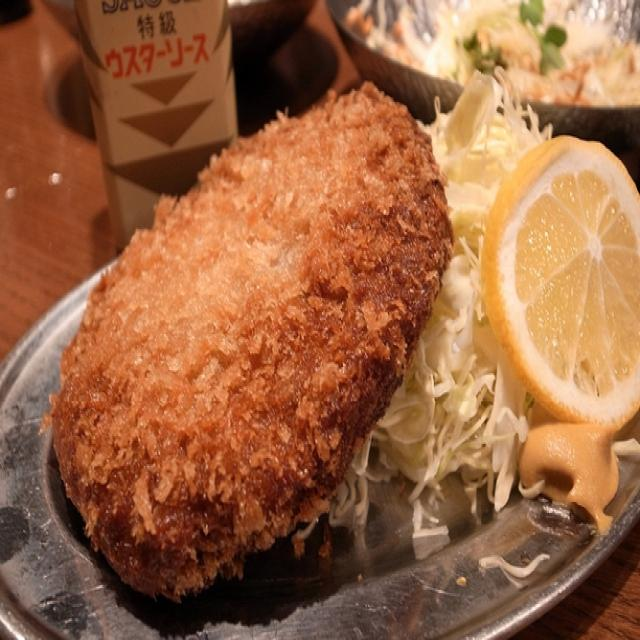炸货点心: (20, 61, 614, 615)
